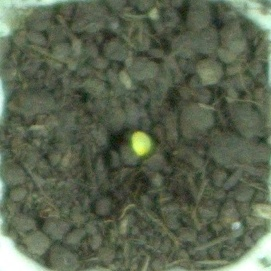chilli seed: (128, 129, 155, 157)
